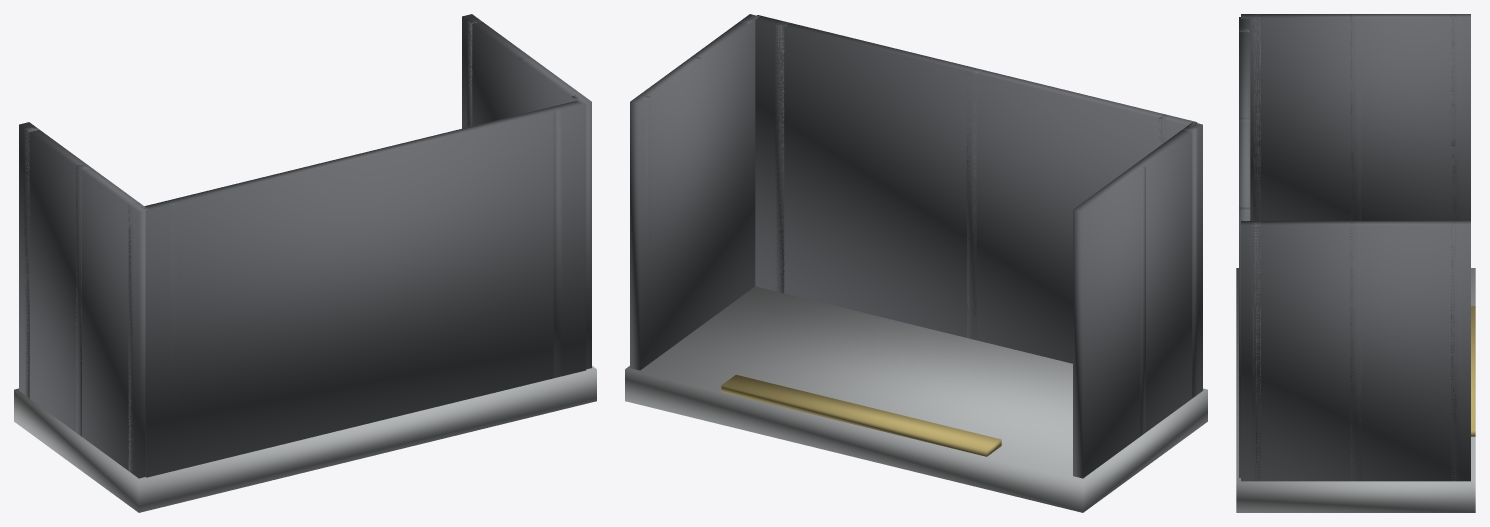
Rendered from landing_industrial_w180_d85_window.glb.
The picture shows the model from 3 angles, left to right: view 1: azimuth 30°, elevation 25°; view 2: azimuth 150°, elevation 25°; view 3: azimuth 270°, elevation 25°; orthographic projection. The views are drawn at different scales.
Visible parts, largest first — view 1: world; view 2: world; view 3: world.
Part boxes in pixels (x1,y1,x2,y2): world: [14, 14, 596, 512]; world: [625, 14, 1207, 512]; world: [1236, 14, 1475, 512].
Size of the model in its own units: 1.8 by 1.12 by 0.85.
